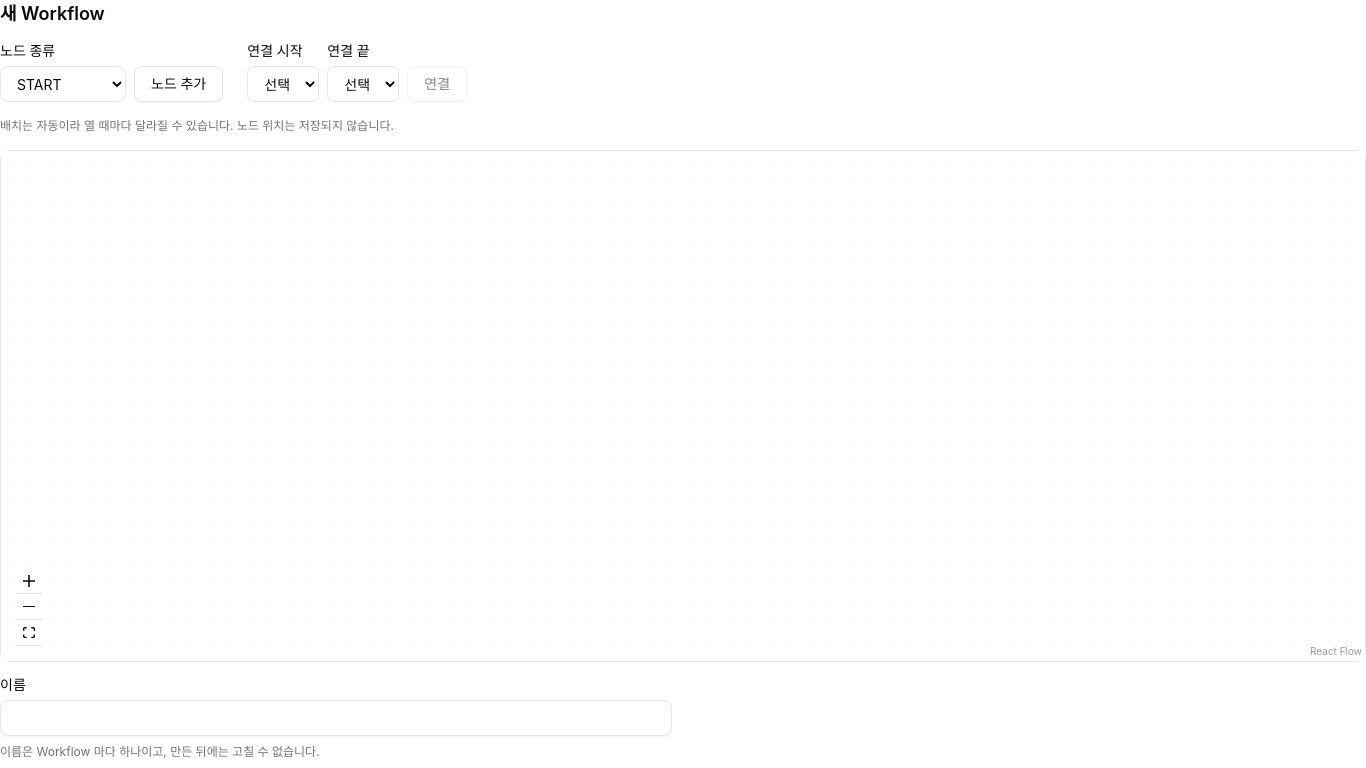
Scenario: WorkflowEditor - 그리기 (spec 0007 R-3·D-9; DESIGN 5·6절) › 연결을 끊을 수 있다
Select "START" in the dropdown labelled "노드 종류": {"x": 63, "y": 84} [0, 66, 126, 102]
Click the button "노드 추가": {"x": 179, "y": 84} [134, 66, 223, 102]
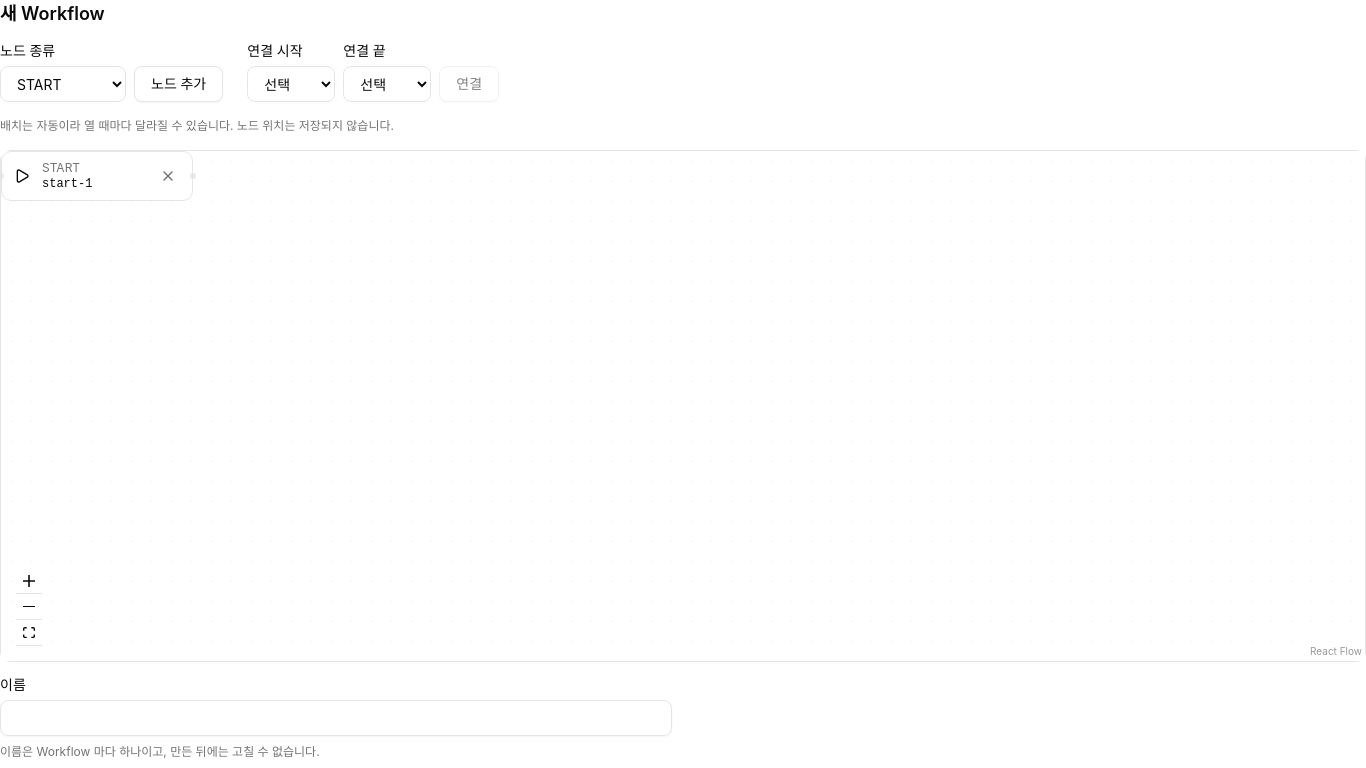
Select "END" in the dropdown labelled "노드 종류": {"x": 63, "y": 84} [0, 66, 126, 102]
Click the button "노드 추가": {"x": 179, "y": 84} [134, 66, 223, 102]
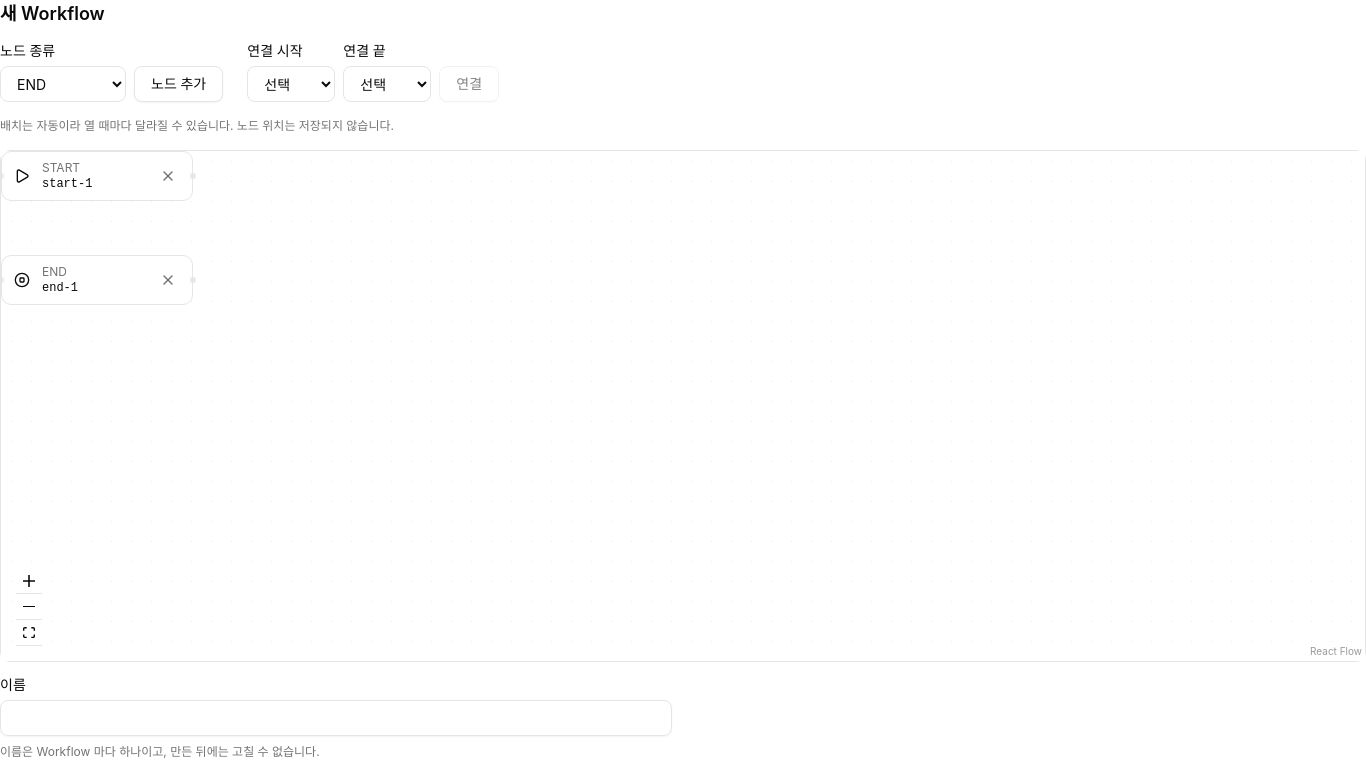
Select "start-1" in the dropdown labelled "연결 시작": {"x": 291, "y": 84} [247, 66, 335, 102]
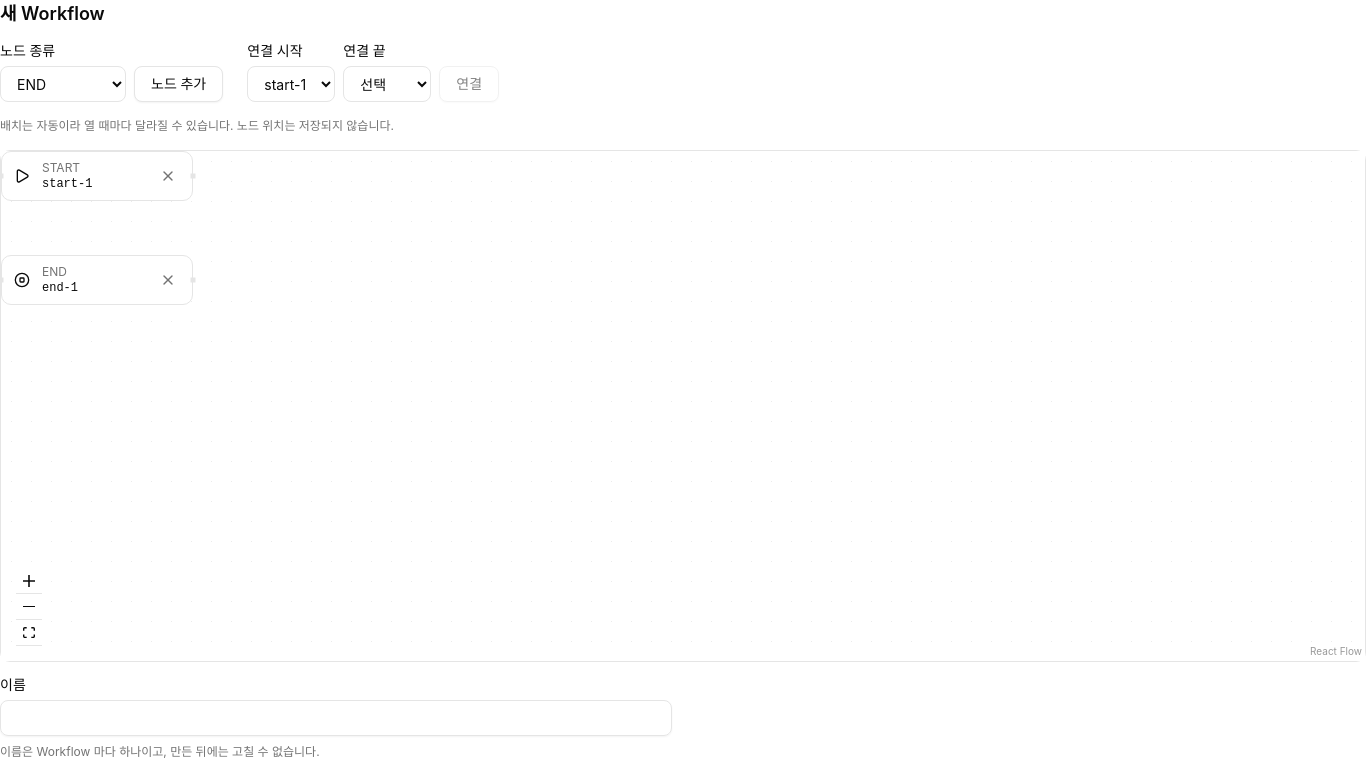
Select "end-1" in the dropdown labelled "연결 끝": {"x": 387, "y": 84} [343, 66, 431, 102]
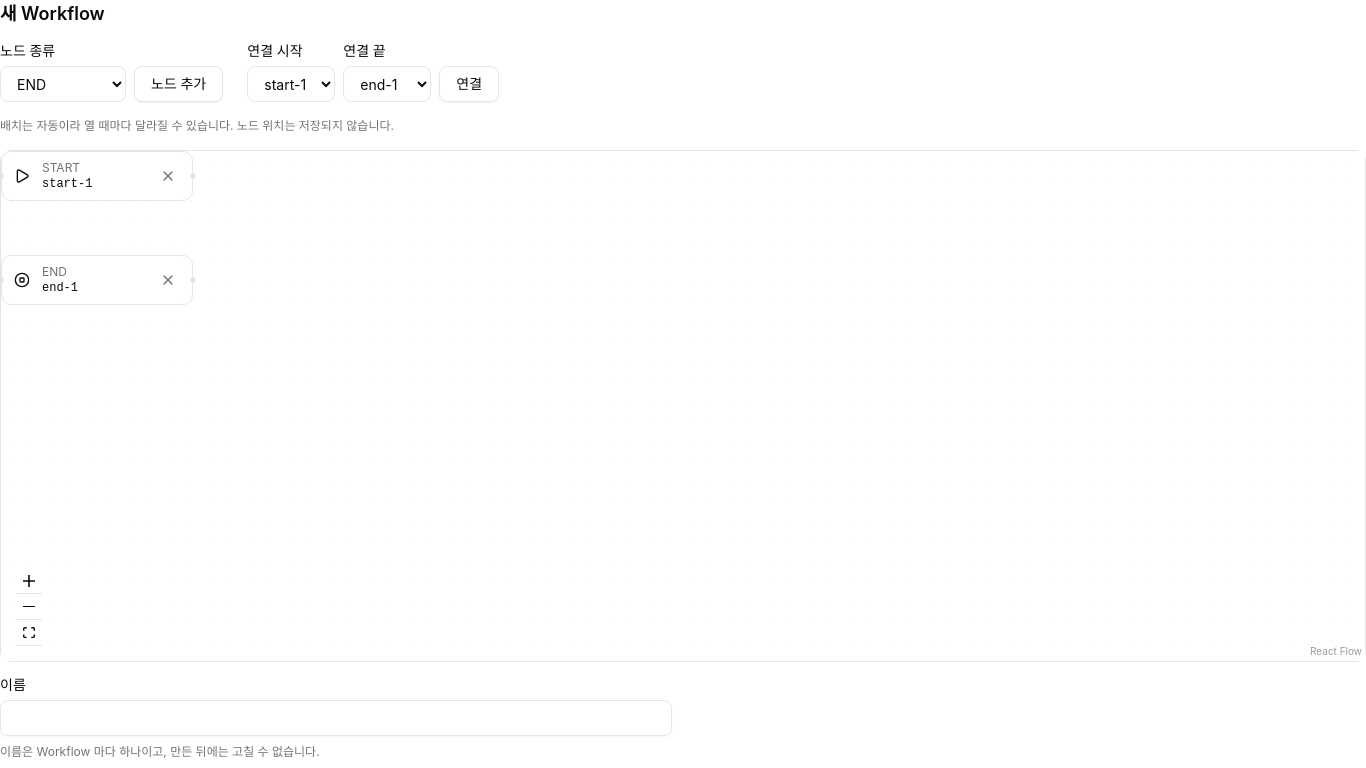
Click the button "연결": {"x": 469, "y": 84} [439, 66, 499, 102]
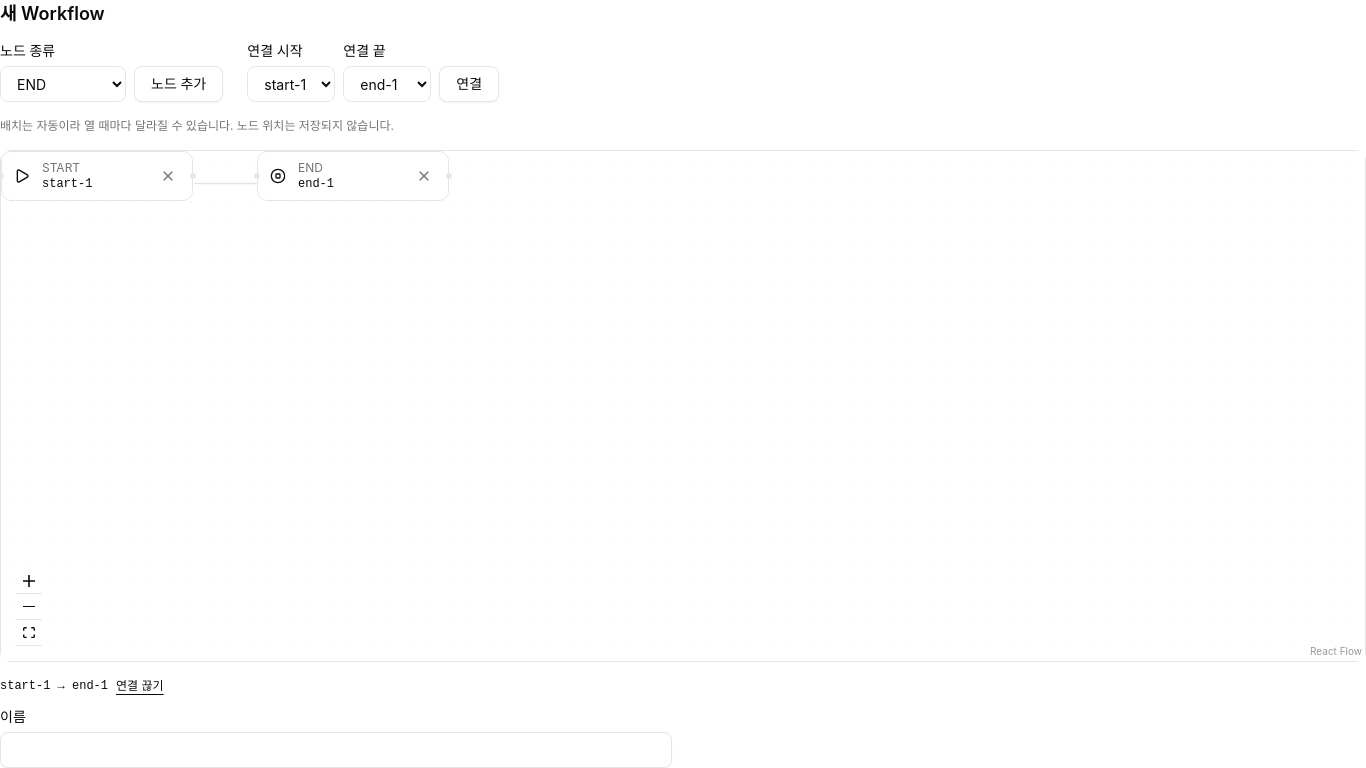
Click the button "연결 끊기": {"x": 140, "y": 686} [116, 678, 164, 694]
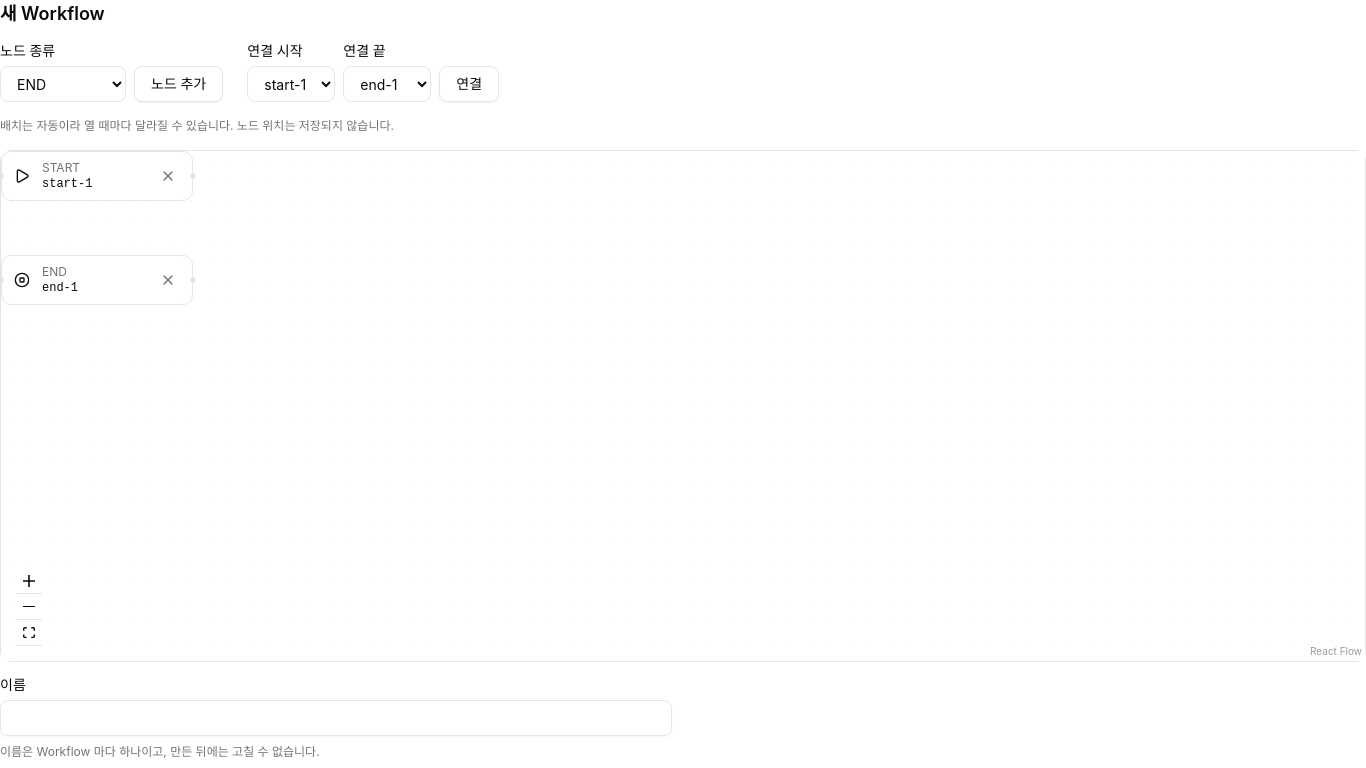
expect no buttons "연결 끊기" are shown: met
